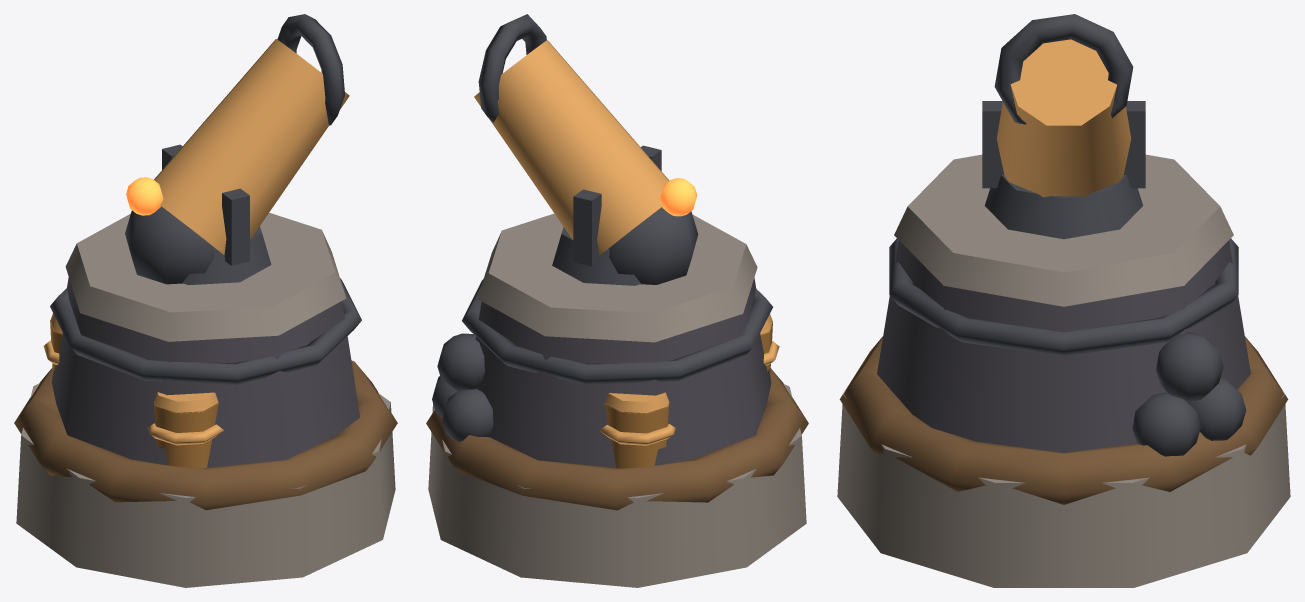
The model's file is tower_mine.glb.
3 renders of one model, left to right at view 1: azimuth 30°, elevation 25°; view 2: azimuth 150°, elevation 25°; view 3: azimuth 270°, elevation 25°, orthographic. The views are drawn at different scales.
Visible parts, largest first — view 1: base, bunker, bunker_cap, mortar_tube, earthwall, bunker_band, mortar_breech, mortar_mouth, barrel_0, turret_yoke, turret_trunnion_l, spark (+2 smaller); view 2: base, bunker, bunker_cap, mortar_tube, earthwall, bunker_band, mortar_breech, mortar_mouth, barrel_1, shell_2, shell_0, turret_trunnion_r (+5 smaller); view 3: base, bunker, bunker_cap, earthwall, mortar_tube, bunker_band, turret_yoke, mortar_mouth, shell_2, shell_1, shell_0, turret_trunnion_l (+1 smaller).
Part boxes in pixels (x1,y1,x2,y2): base: [16, 383, 395, 587]; bunker: [51, 277, 359, 467]; bunker_cap: [65, 212, 346, 341]; mortar_tube: [154, 39, 349, 254]; earthwall: [14, 360, 397, 510]; bunker_band: [50, 278, 361, 384]; mortar_breech: [125, 206, 214, 284]; mortar_mouth: [277, 14, 344, 125]; barrel_0: [154, 401, 218, 468]; turret_yoke: [182, 226, 271, 285]; turret_trunnion_l: [222, 188, 249, 265]; spark: [126, 177, 163, 215]; base: [428, 383, 806, 587]; bunker: [475, 278, 771, 467]; bunker_cap: [477, 213, 757, 342]; mortar_tube: [474, 40, 669, 255]; earthwall: [426, 368, 808, 510]; bunker_band: [462, 279, 772, 385]; mortar_breech: [608, 207, 698, 284]; mortar_mouth: [478, 14, 546, 122]; barrel_1: [604, 402, 669, 468]; shell_2: [437, 333, 484, 390]; shell_0: [442, 389, 493, 442]; turret_trunnion_r: [573, 189, 601, 266]; base: [837, 391, 1290, 587]; bunker: [877, 240, 1250, 452]; bunker_cap: [894, 154, 1233, 306]; earthwall: [839, 336, 1288, 504]; mortar_tube: [996, 39, 1131, 197]; bunker_band: [889, 238, 1238, 356]; turret_yoke: [984, 175, 1143, 239]; mortar_mouth: [994, 14, 1133, 124]; shell_2: [1156, 332, 1223, 401]; shell_1: [1132, 392, 1200, 456]; shell_0: [1188, 377, 1246, 440]; turret_trunnion_l: [982, 101, 1004, 188].
Bounding box in the file's own units: 0.396 × 0.528 × 0.4.
